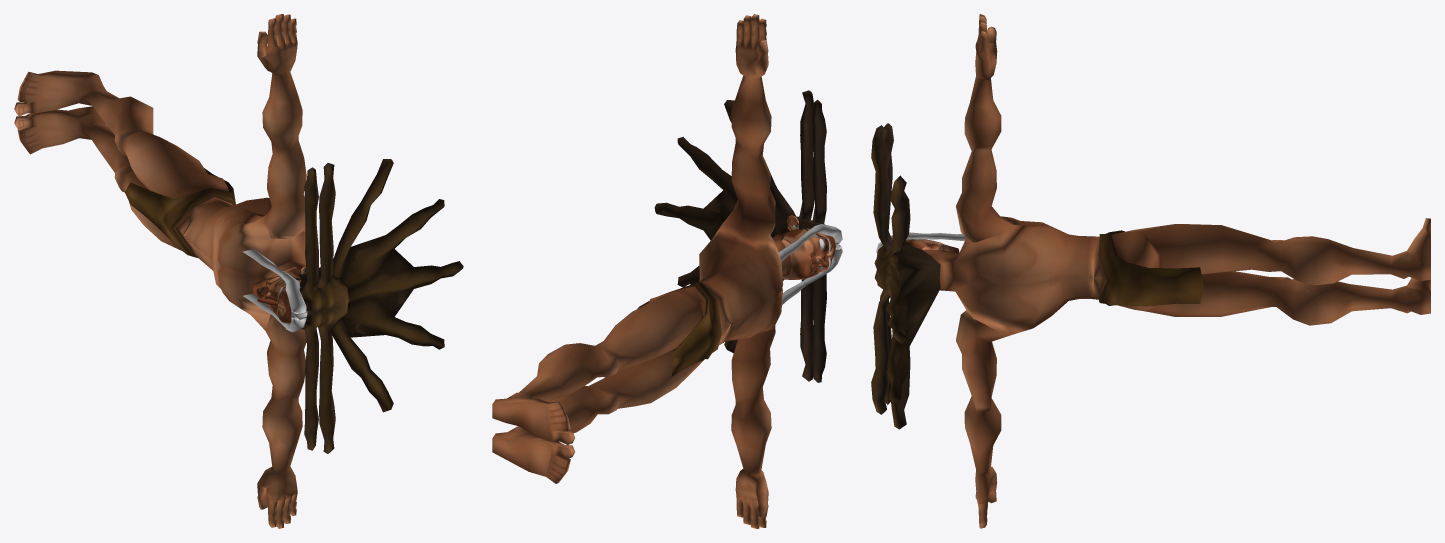
The model's file is Tarzan_textured_MaterialGroups.obj.
3 views of the same model, side by side, from view 1: azimuth 30°, elevation 25°; view 2: azimuth 150°, elevation 25°; view 3: azimuth 270°, elevation 25° (orthographic).
Parts seen in each view (by area): view 1: 7_mesh5_0.1_16_16_arms, 7_mesh5_0.1_16_16_chest, 7_mesh5_0.1_16_16_legs, 7_mesh5_0.1_16_16_hair_back, 7_mesh5_0.1_16_16_hair, 7_mesh5_0.1_16_16_fingers_and_cloth, 7_mesh5_0.1_16_16_face_features_and_hair, 7_mesh5_0.1_16_16_face; view 2: 7_mesh5_0.1_16_16_legs, 7_mesh5_0.1_16_16_chest, 7_mesh5_0.1_16_16_arms, 7_mesh5_0.1_16_16_hair, 7_mesh5_0.1_16_16_fingers_and_cloth, 7_mesh5_0.1_16_16_hair_back, 7_mesh5_0.1_16_16_face, 7_mesh5_0.1_16_16_face_features_and_hair; view 3: 7_mesh5_0.1_16_16_chest, 7_mesh5_0.1_16_16_legs, 7_mesh5_0.1_16_16_arms, 7_mesh5_0.1_16_16_hair, 7_mesh5_0.1_16_16_hair_back, 7_mesh5_0.1_16_16_fingers_and_cloth.
Part boxes in pixels (<box>): 7_mesh5_0.1_16_16_arms: <box>257,42,306,500</box>; 7_mesh5_0.1_16_16_chest: <box>87,90,305,330</box>; 7_mesh5_0.1_16_16_legs: <box>14,70,228,250</box>; 7_mesh5_0.1_16_16_hair_back: <box>299,199,463,349</box>; 7_mesh5_0.1_16_16_hair: <box>204,159,393,453</box>; 7_mesh5_0.1_16_16_fingers_and_cloth: <box>124,14,297,528</box>; 7_mesh5_0.1_16_16_face_features_and_hair: <box>243,249,307,332</box>; 7_mesh5_0.1_16_16_face: <box>252,266,306,323</box>; 7_mesh5_0.1_16_16_legs: <box>492,286,705,483</box>; 7_mesh5_0.1_16_16_chest: <box>519,205,791,433</box>; 7_mesh5_0.1_16_16_arms: <box>731,44,775,502</box>; 7_mesh5_0.1_16_16_hair: <box>637,90,826,382</box>; 7_mesh5_0.1_16_16_fingers_and_cloth: <box>672,14,768,528</box>; 7_mesh5_0.1_16_16_hair_back: <box>654,136,824,345</box>; 7_mesh5_0.1_16_16_face: <box>782,215,835,279</box>; 7_mesh5_0.1_16_16_face_features_and_hair: <box>778,224,842,304</box>; 7_mesh5_0.1_16_16_chest: <box>922,206,1392,342</box>; 7_mesh5_0.1_16_16_legs: <box>1111,218,1430,316</box>; 7_mesh5_0.1_16_16_arms: <box>956,47,1001,504</box>; 7_mesh5_0.1_16_16_hair: <box>871,123,1124,429</box>; 7_mesh5_0.1_16_16_hair_back: <box>874,241,940,402</box>; 7_mesh5_0.1_16_16_fingers_and_cloth: <box>975,14,1203,528</box>.
Size of the model in its own units: 56 by 145 by 144.
